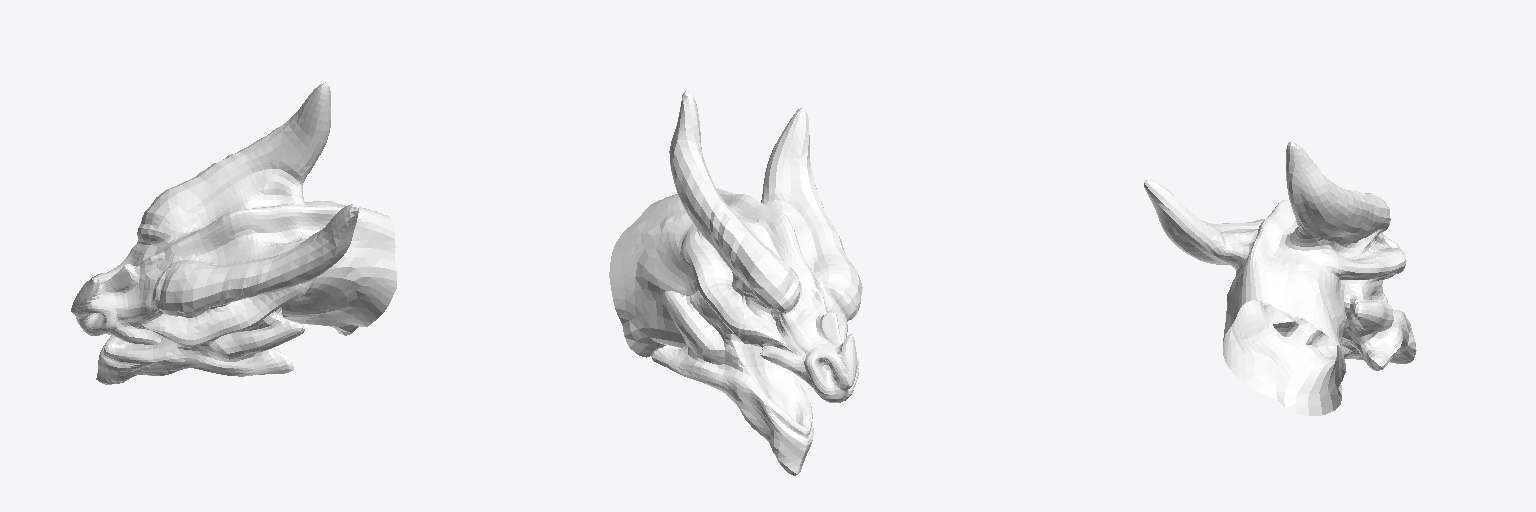
3 renders of one model, left to right at view 1: azimuth 30°, elevation 25°; view 2: azimuth 150°, elevation 25°; view 3: azimuth 270°, elevation 25°, orthographic.
Visible parts, largest first — view 1: Cabeza_004; view 2: Cabeza_004; view 3: Cabeza_004.
Boxes of the visible parts, x1=… form: Cabeza_004: x1=71, y1=82, x2=396, y2=384; Cabeza_004: x1=609, y1=91, x2=862, y2=475; Cabeza_004: x1=1144, y1=142, x2=1416, y2=415.
Size of the model in its own units: 1.71 by 1.84 by 1.5.
1 materials, 1 textured.